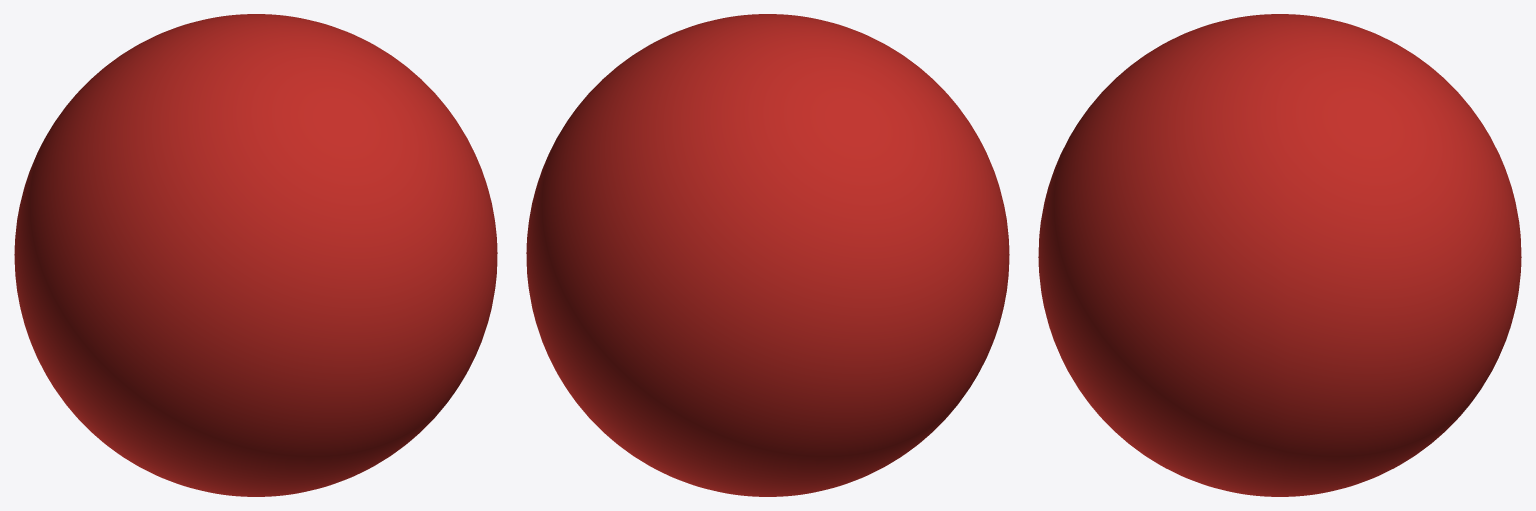
File: RedBuoyColor.dae
3 views of the same model, side by side, from view 1: azimuth 30°, elevation 25°; view 2: azimuth 150°, elevation 25°; view 3: azimuth 270°, elevation 25° (orthographic).
Visible parts, largest first — view 1: RED-BUOY; view 2: RED-BUOY; view 3: RED-BUOY.
Part boxes in pixels (box(x1,y1,x2,y2)): RED-BUOY: box(14, 14, 497, 496); RED-BUOY: box(526, 14, 1009, 496); RED-BUOY: box(1038, 14, 1521, 496).
Bounding box in the file's own units: 22.86 × 22.86 × 22.86.
